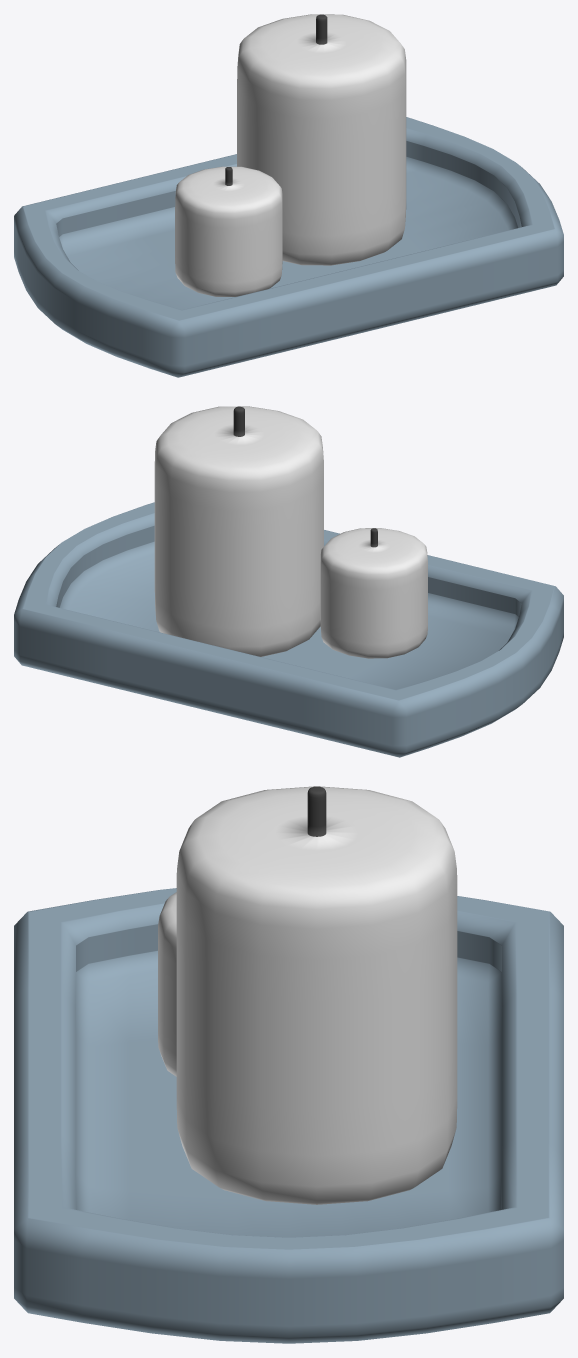
The model's file is Velas.fbx.
The picture shows the model from 3 angles, top to bottom: view 1: azimuth 30°, elevation 25°; view 2: azimuth 150°, elevation 25°; view 3: azimuth 270°, elevation 25°; orthographic projection. The views are drawn at different scales.
Visible parts, largest first — view 1: BandejaConVelas, Cube.005, Cube.007; view 2: BandejaConVelas, Cube.005, Cube.007; view 3: BandejaConVelas, Cube.005, Cube.007.
Part boxes in pixels (x1,y1,x2,y2): BandejaConVelas: (14,117,563,377); Cube.005: (237,14,406,265); Cube.007: (175,166,282,296); BandejaConVelas: (14,502,563,757); Cube.005: (154,406,323,656); Cube.007: (320,528,427,658); BandejaConVelas: (14,888,563,1343); Cube.005: (176,786,457,1204); Cube.007: (158,892,176,1076).
Size of the model in its own units: 0.1186 by 0.0724 by 0.0586.
